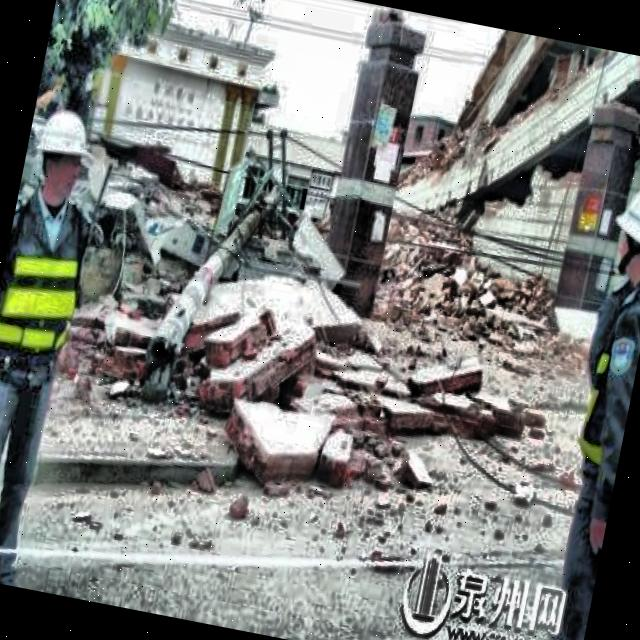helmet: (23, 95, 100, 212), (603, 171, 640, 293)
